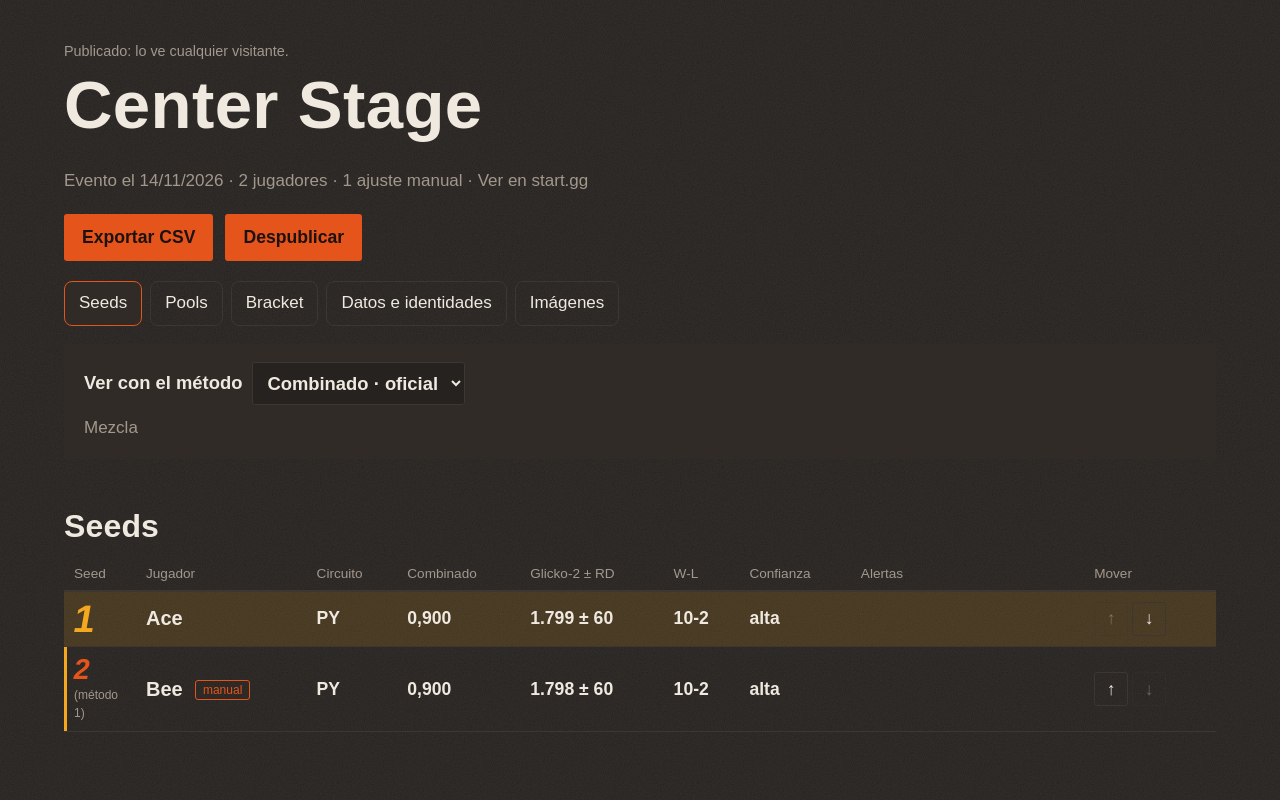
Scenario: seeding board › shows data window, explanations and manual adjustments
Expected: the heading "Center Stage" is shown, [64,67,482,142]
Expected: the text "(método 1)" is shown, [74,688,118,720]
Click the tab "Datos e identidades" at x=417, y=304, box [326,281,507,326]
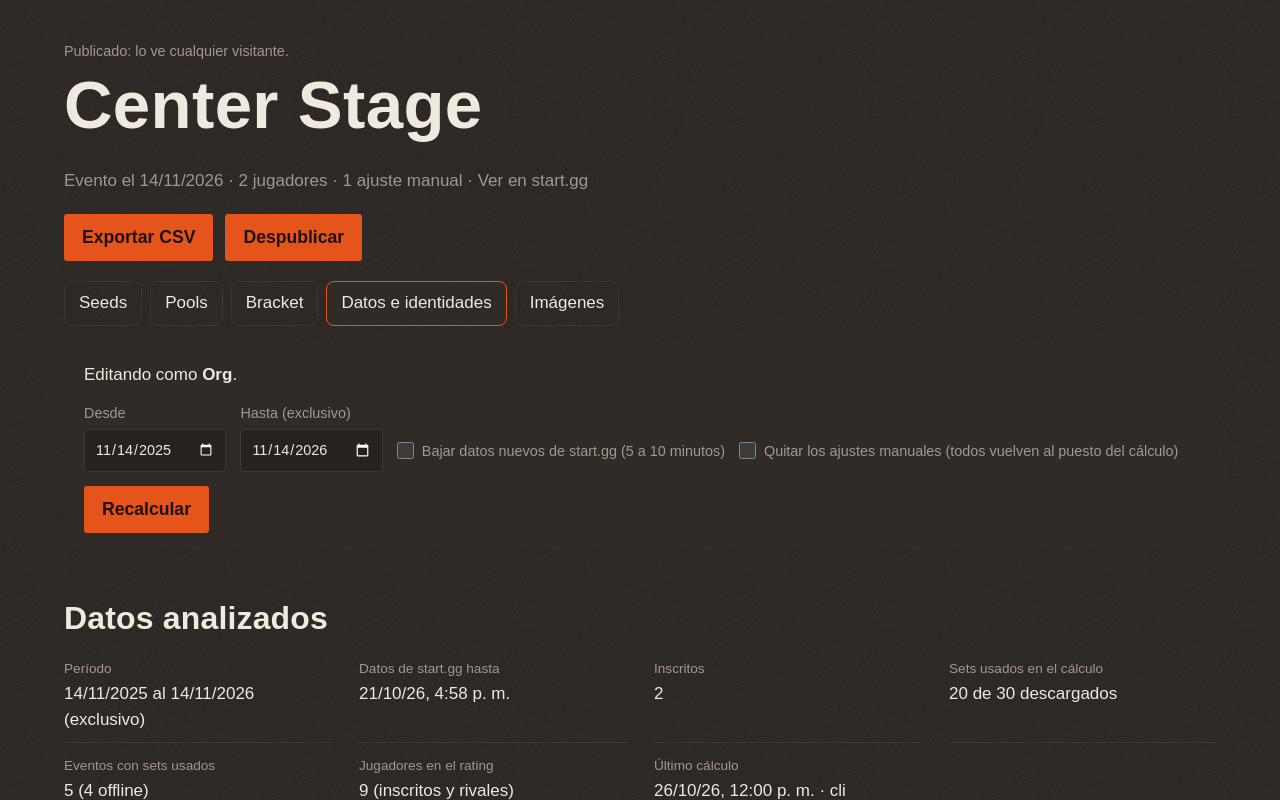
Expected: the text "14/11/2025 al 14/11/2026 (exclusivo)" is shown, [64,684,254,729]
Click the tab "Seeds" at x=103, y=304, box [64,281,142,326]
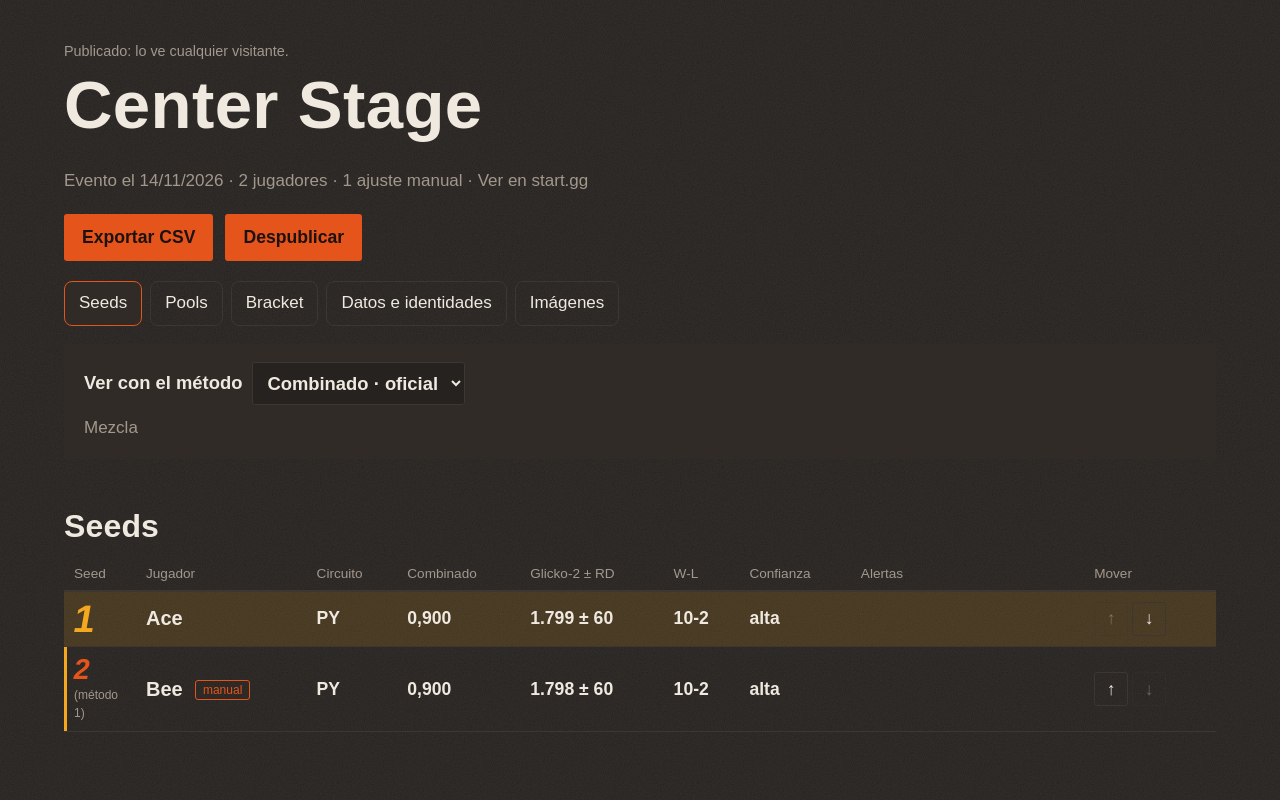
Expected: the button "Exportar CSV" is shown, [64,214,213,261]
Expected: the button "Despublicar" is shown, [225,214,362,261]
Click the button "Bee" at x=164, y=689, box [146,674,183,705]
(page scrolled)
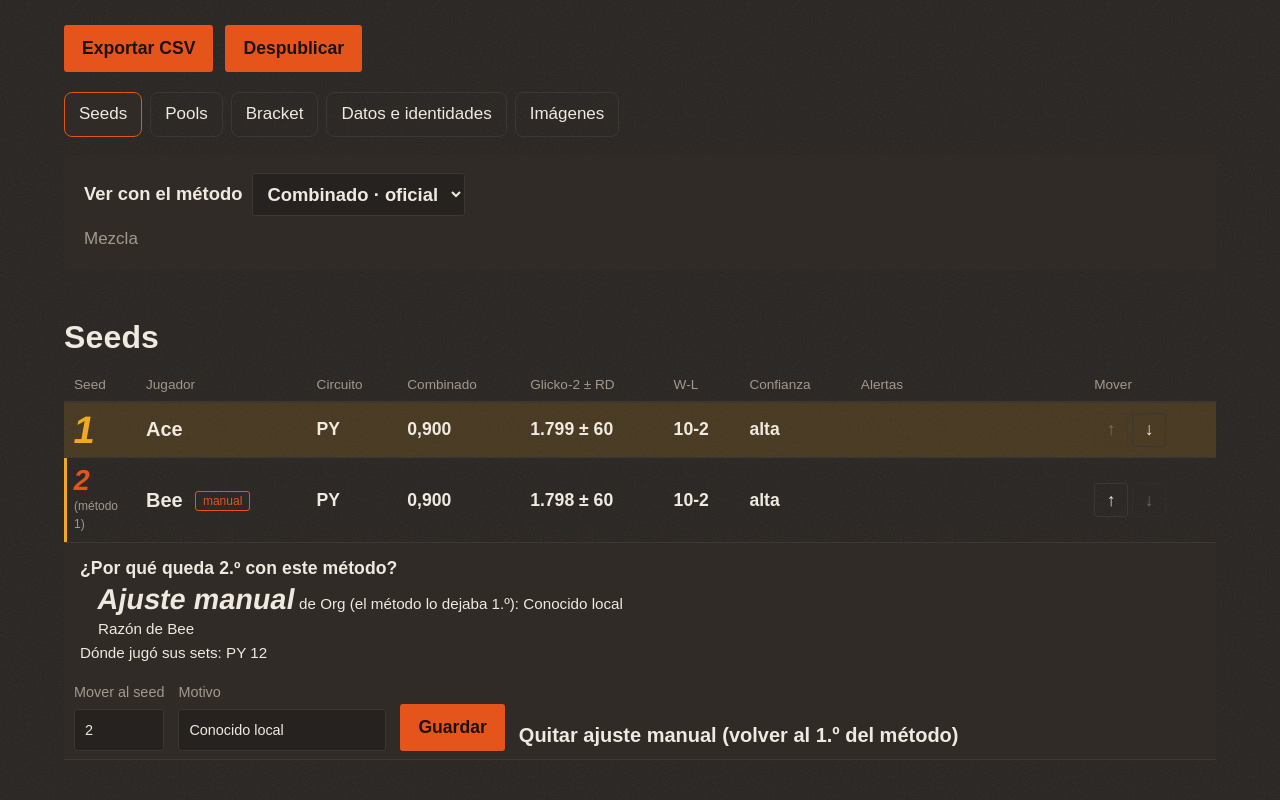
Expected: the list item "Razón de Bee" is shown, [98,620,194,637]
Expected: the list item "Conocido local" is shown, [523,596,623,612]
